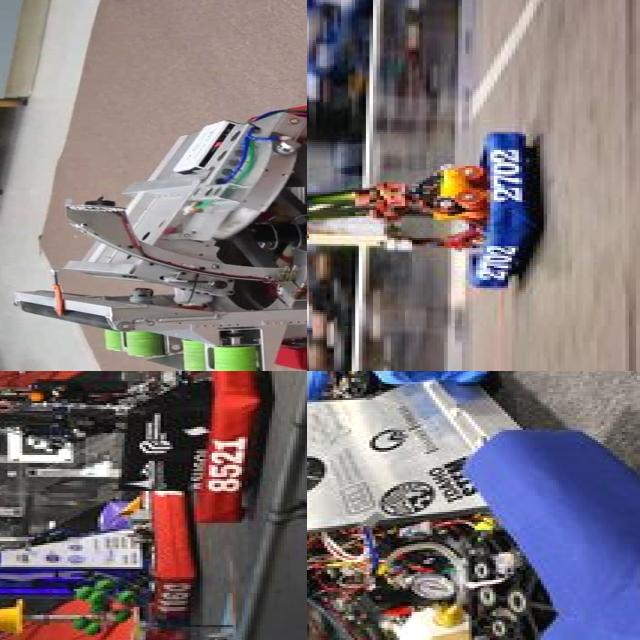FRC-Robots: (9, 62, 307, 371), (307, 371, 640, 640), (307, 95, 556, 318), (0, 371, 301, 496), (0, 503, 210, 633)
